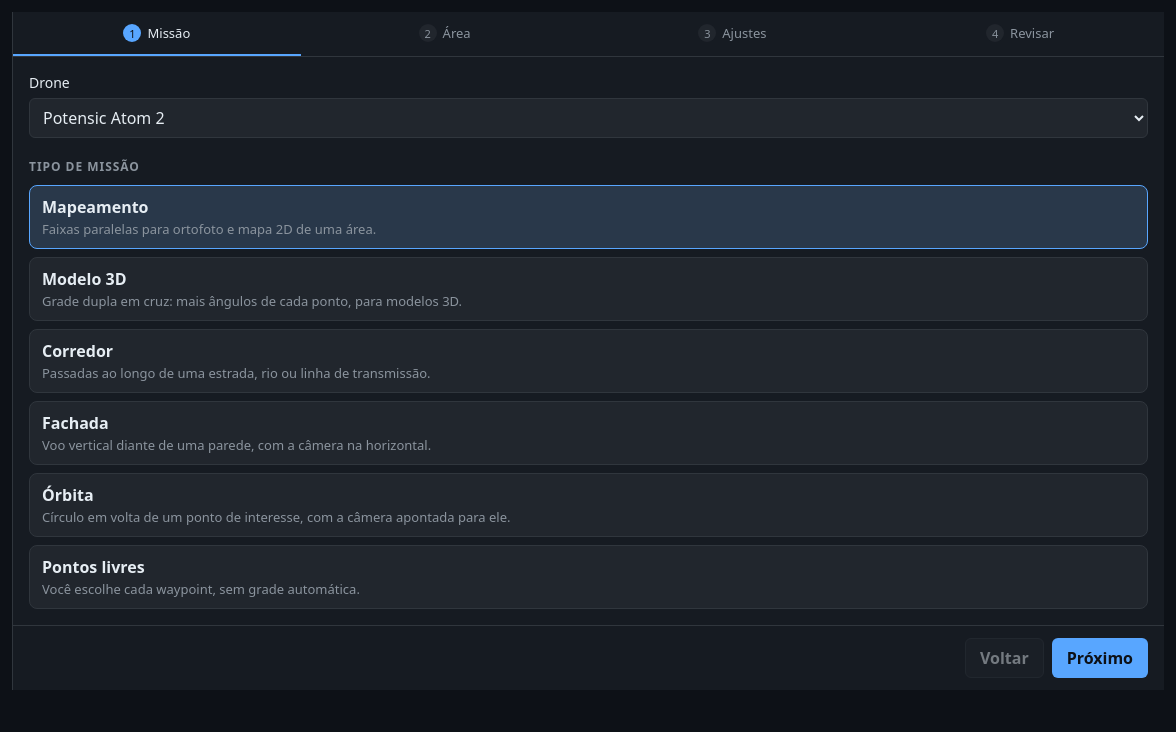
Panel › shows the server's error on the review step
What coordinates should you click on to do the following:
click the button "4 Revisar"
I would click on:
 (1020, 34)
Its box is left=876, top=12, right=1164, bottom=56.
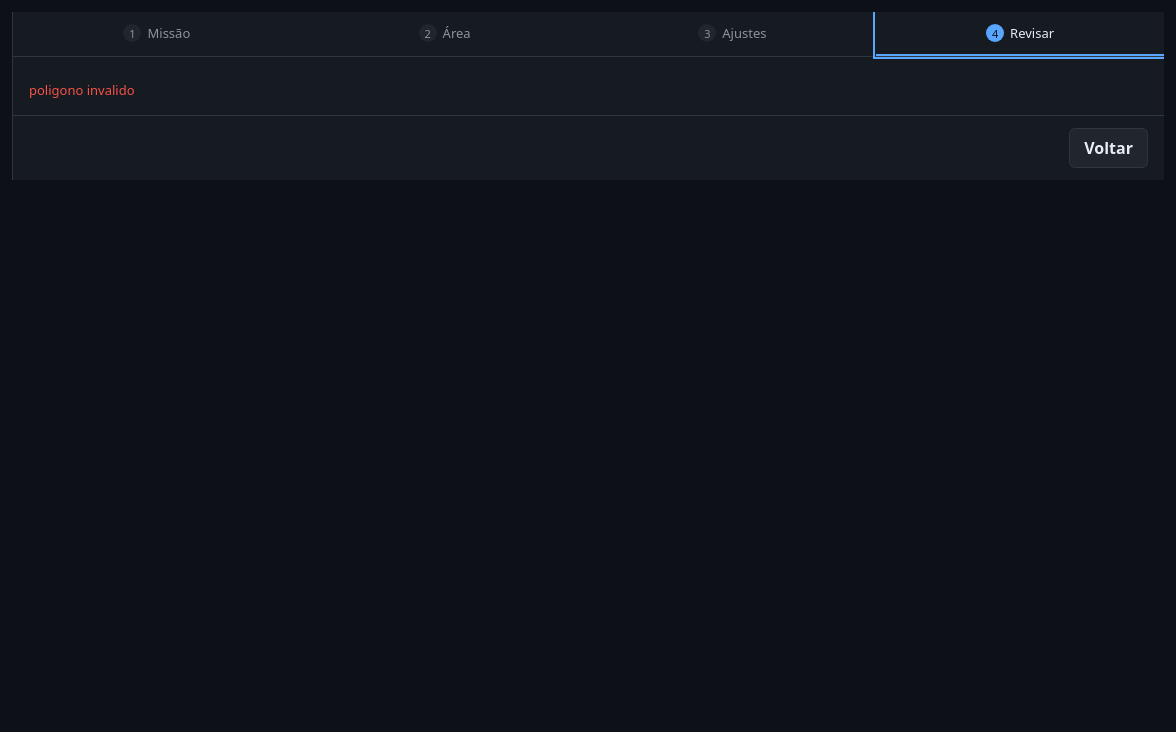
Expected: the message reads "poligono invalido", left=29, top=81, right=135, bottom=99
